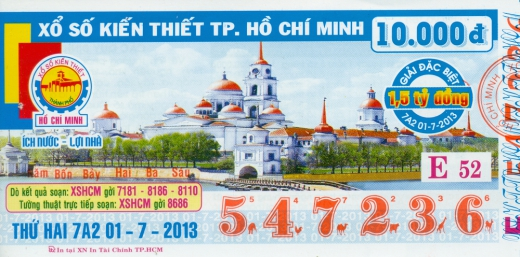serial_zone: (210, 192, 499, 244)
